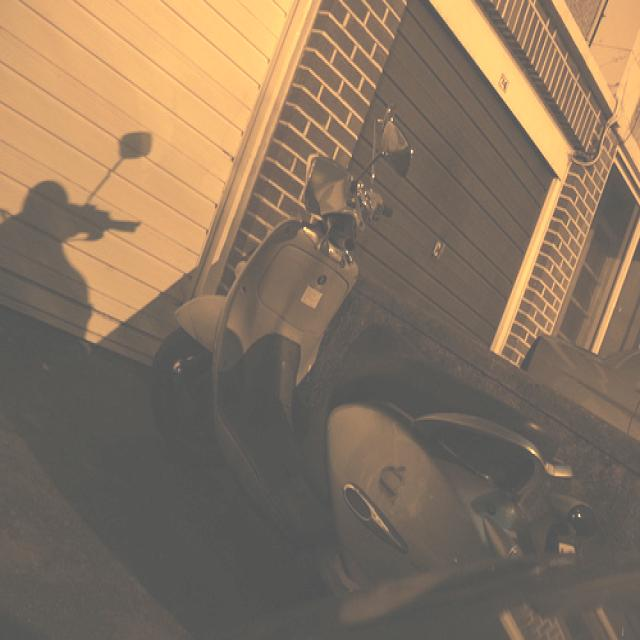Motorbike: (144, 104, 638, 640)
